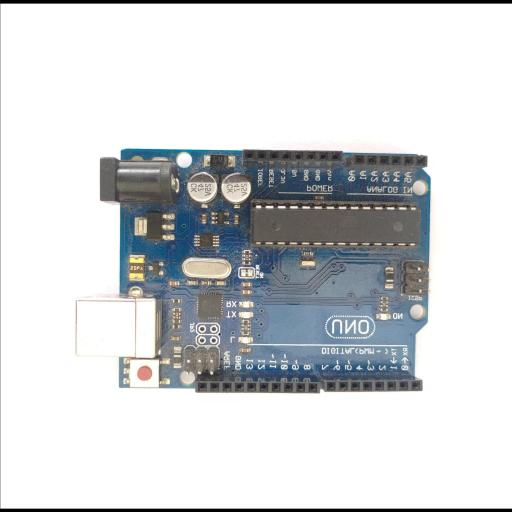Arduino Uno R3: (78, 148, 432, 394)
